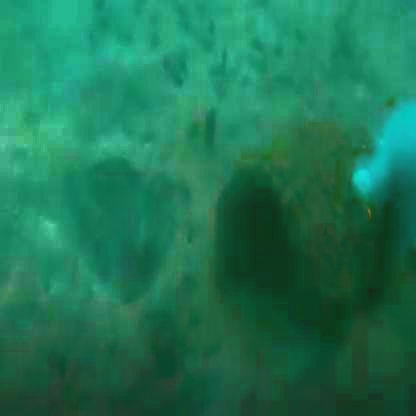misc: (237, 125, 387, 378)
